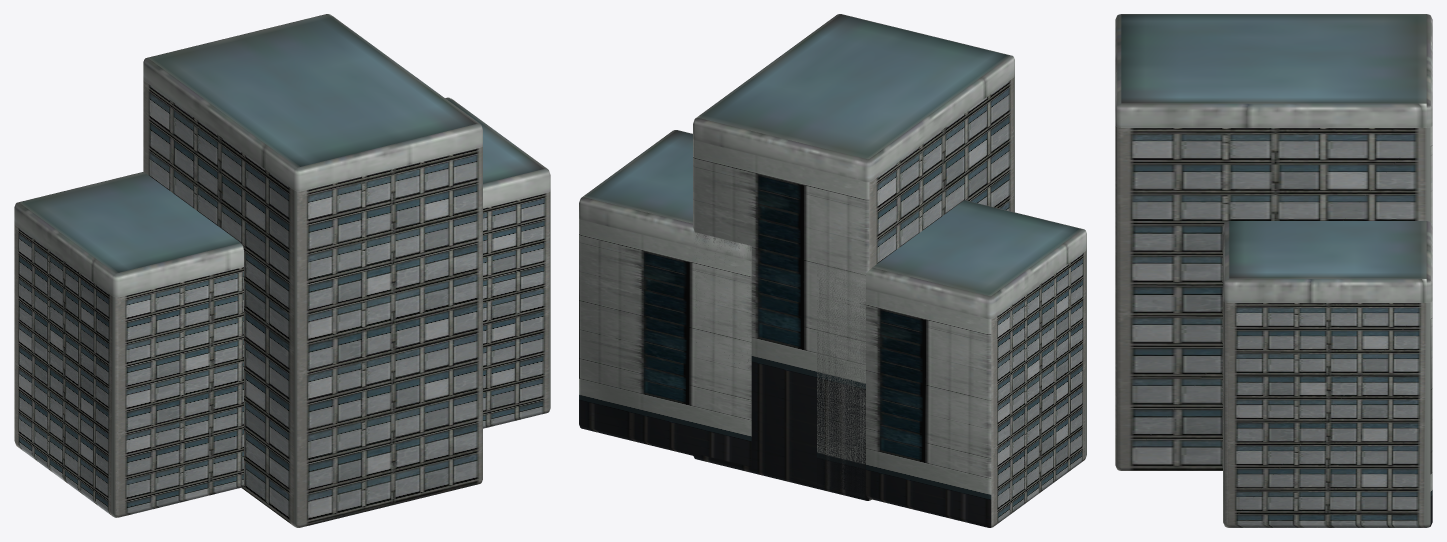
Rendered from 00_03_outside_building_l.dae.
The picture shows the model from 3 angles, left to right: view 1: azimuth 30°, elevation 25°; view 2: azimuth 150°, elevation 25°; view 3: azimuth 270°, elevation 25°; orthographic projection. The views are drawn at different scales.
Parts seen in each view (by area): view 1: ChamferBox003; view 2: ChamferBox003; view 3: ChamferBox003.
Boxes of the visible parts, box(x1,y1,x2,y2) form: ChamferBox003: box(14, 14, 550, 527); ChamferBox003: box(579, 14, 1086, 527); ChamferBox003: box(1115, 14, 1432, 527).
Size of the model in its own units: 69.22 by 54.5 by 42.65.
